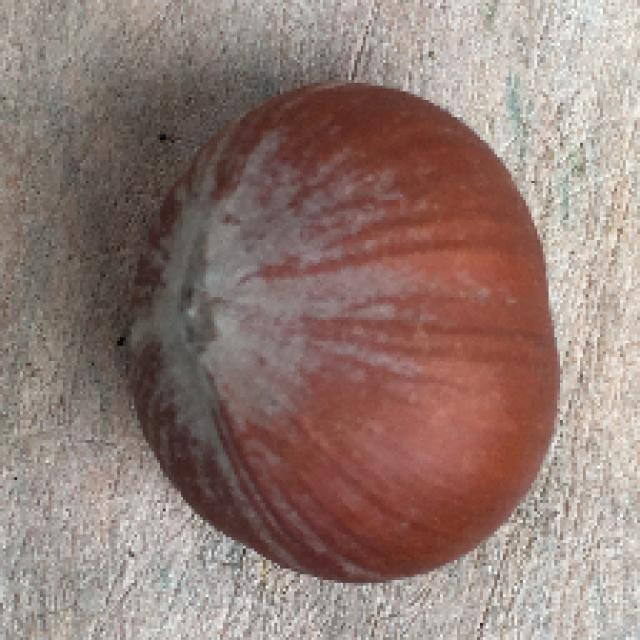QualityHazelnut: (118, 76, 560, 575)
